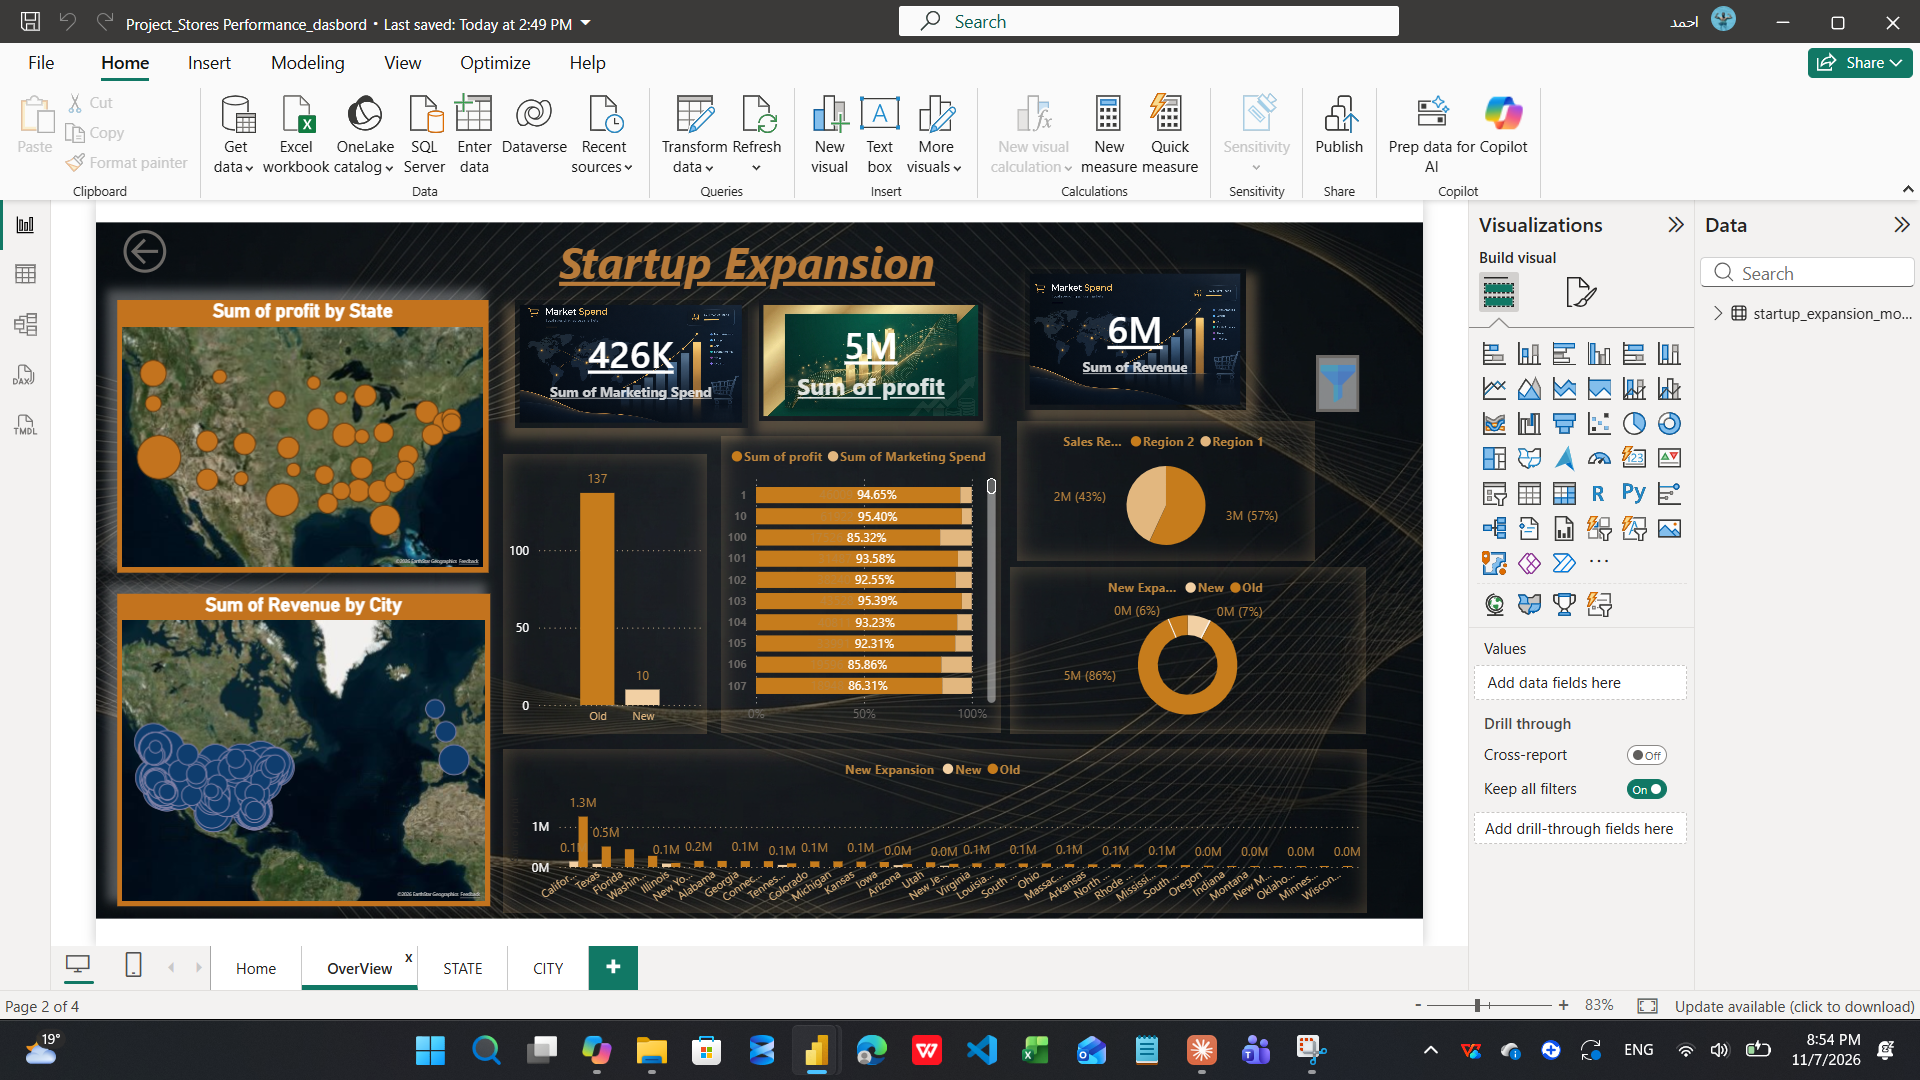

The dashboard page shown, as its layout file describes it:
{"tool":"powerbi","page":{"name":"OverView","canvas":[1280,720],"ordinal":1},"visuals":[{"type":"actionButton","box":[405.7,22.9,445.7,72.9],"z":0},{"type":"columnChart","fields":{"Y":["CountNonNull(startup_expansion_modified.New Expansion)"],"Category":["startup_expansion_modified.New Expansion"]},"box":[393.8,244.6,196.9,270.7],"z":1000},{"type":"azureMap","fields":{"Size":["Sum(startup_expansion_modified.profit)"],"Category":["startup_expansion_modified.State"]},"box":[20,96.9,358.4,263],"z":2000},{"type":"azureMap","fields":{"Category":["startup_expansion_modified.City"],"Size":["Sum(startup_expansion_modified.Revenue)"]},"box":[20,379.9,359.9,301.5],"z":3000},{"type":"cardVisual","fields":{"Data":["Sum(startup_expansion_modified.profit)"]},"box":[639.4,96.5,217.2,117],"z":4000},{"type":"cardVisual","fields":{"Data":["Sum(startup_expansion_modified.Marketing Spend)"]},"box":[403.8,96.9,224.6,123.1],"z":5000},{"type":"pieChart","fields":{"Y":["Sum(startup_expansion_modified.Revenue)"],"Category":["startup_expansion_modified.Sales Region"]},"box":[889.2,213.3,287.5,135],"z":6000},{"type":"cardVisual","fields":{"Data":["Sum(startup_expansion_modified.Revenue)"]},"box":[896.9,66.2,213.8,136.9],"z":7000},{"type":"clusteredColumnChart","fields":{"Category":["startup_expansion_modified.State"],"Y":["Sum(startup_expansion_modified.profit)"],"Series":["startup_expansion_modified.New Expansion"]},"box":[393.3,530,833.3,158.3],"z":8000},{"type":"actionButton","box":[1176.9,149.1,42,55],"z":11000},{"type":"hundredPercentStackedBarChart","fields":{"Category":["startup_expansion_modified.Store ID"],"Y":["Sum(startup_expansion_modified.profit)","Sum(startup_expansion_modified.Marketing Spend)"]},"box":[602.7,228.4,270.3,286.5],"z":13000},{"type":"donutChart","fields":{"Y":["Sum(startup_expansion_modified.Revenue)","Sum(startup_expansion_modified.Marketing Spend)"],"Category":["startup_expansion_modified.New Expansion"]},"box":[881.9,354.7,343.8,160.5],"z":14000},{"type":"actionButton","box":[20,22.7,128,53.3],"z":15000}]}

Visuals, with their boxes on the page's 1280x720 design canvas (x1, y1, x2, y2). These are canvas units, not pixel positions in the 1920x1080 screenshot, which may show the page scaled, cropped or inside an application window:
actionButton: <bbox>406, 23, 851, 96</bbox>
columnChart - CountNonNull(startup_expansion_modified.New Expansion) x startup_expansion_modified.New Expansion: <bbox>394, 245, 591, 515</bbox>
azureMap - Sum(startup_expansion_modified.profit) x startup_expansion_modified.State: <bbox>20, 97, 378, 360</bbox>
azureMap - startup_expansion_modified.City x Sum(startup_expansion_modified.Revenue): <bbox>20, 380, 380, 681</bbox>
cardVisual - Sum(startup_expansion_modified.profit): <bbox>639, 96, 857, 214</bbox>
cardVisual - Sum(startup_expansion_modified.Marketing Spend): <bbox>404, 97, 628, 220</bbox>
pieChart - Sum(startup_expansion_modified.Revenue) x startup_expansion_modified.Sales Region: <bbox>889, 213, 1177, 348</bbox>
cardVisual - Sum(startup_expansion_modified.Revenue): <bbox>897, 66, 1111, 203</bbox>
clusteredColumnChart - startup_expansion_modified.State x Sum(startup_expansion_modified.profit): <bbox>393, 530, 1227, 688</bbox>
actionButton: <bbox>1177, 149, 1219, 204</bbox>
hundredPercentStackedBarChart - startup_expansion_modified.Store ID x Sum(startup_expansion_modified.profit): <bbox>603, 228, 873, 515</bbox>
donutChart - Sum(startup_expansion_modified.Revenue) x Sum(startup_expansion_modified.Marketing Spend): <bbox>882, 355, 1226, 515</bbox>
actionButton: <bbox>20, 23, 148, 76</bbox>
